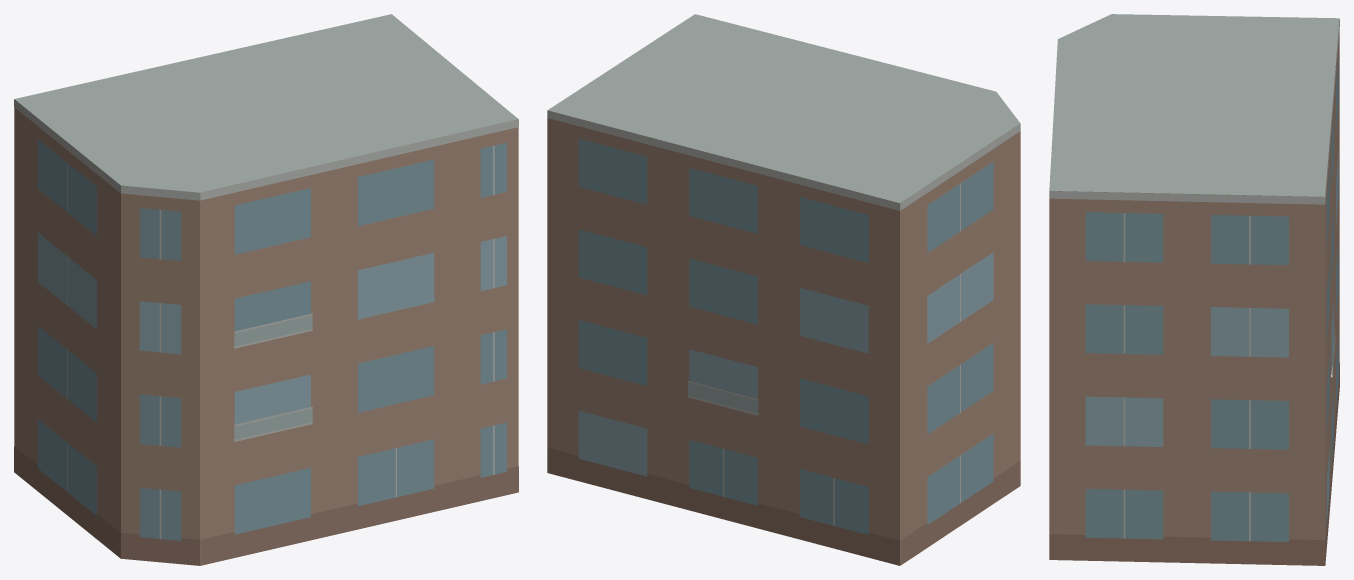
Rendered from survey-upis-32954678.glb.
3 renders of one model, left to right at view 1: azimuth 30°, elevation 25°; view 2: azimuth 150°, elevation 25°; view 3: azimuth 270°, elevation 25°, orthographic. The views are drawn at different scales.
Parts seen in each view (by area): view 1: survey-upis-32954678.tmp; view 2: survey-upis-32954678.tmp; view 3: survey-upis-32954678.tmp.
Boxes of the visible parts, box(x1,y1,x2,y2) form: survey-upis-32954678.tmp: box(14, 14, 518, 565); survey-upis-32954678.tmp: box(547, 14, 1020, 565); survey-upis-32954678.tmp: box(1049, 14, 1339, 565).
Size of the model in its own units: 12.23 by 11.5 by 8.21.
